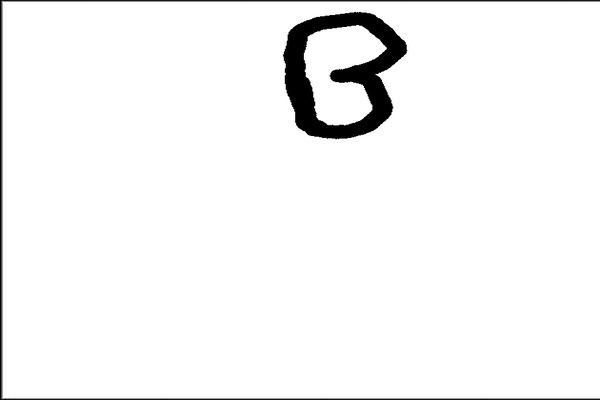B: (275, 7, 414, 146)
